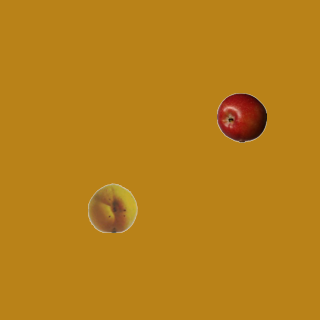Apple Braeburn: (216, 92, 266, 142)
Peach 2: (87, 182, 137, 232)
